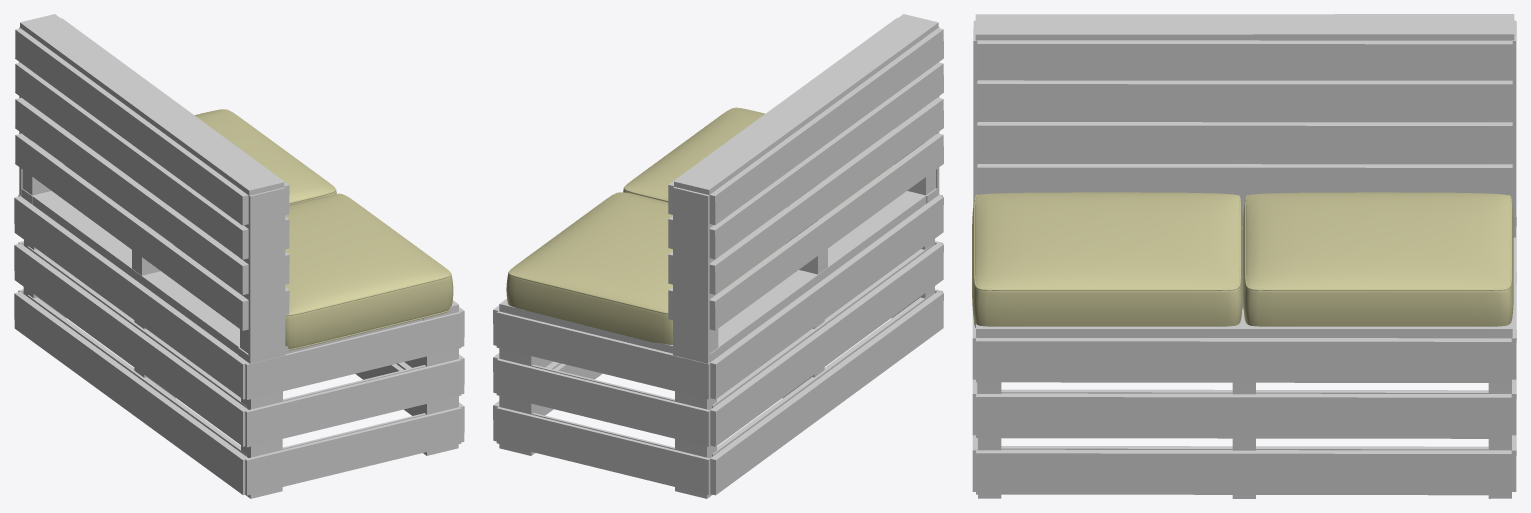
Rendered from sofaCushionsSetDouble.glb.
The picture shows the model from 3 angles, left to right: view 1: azimuth 30°, elevation 25°; view 2: azimuth 150°, elevation 25°; view 3: azimuth 270°, elevation 25°; orthographic projection. The views are drawn at different scales.
Parts seen in each view (by area): view 1: bench, cushion, welting; view 2: bench, cushion, welting; view 3: bench, cushion, welting.
Part boxes in pixels (x1=…): bench: x1=14, y1=14, x2=464, y2=498; cushion: x1=64, y1=109, x2=453, y2=348; welting: x1=195, y1=109, x2=451, y2=350; bench: x1=493, y1=14, x2=943, y2=498; cushion: x1=506, y1=108, x2=894, y2=344; welting: x1=508, y1=107, x2=764, y2=314; bench: x1=972, y1=14, x2=1516, y2=498; cushion: x1=972, y1=192, x2=1513, y2=326; welting: x1=973, y1=194, x2=1511, y2=327.
Bounding box in the file's own units: 1.46 × 1.94 × 2.63.
